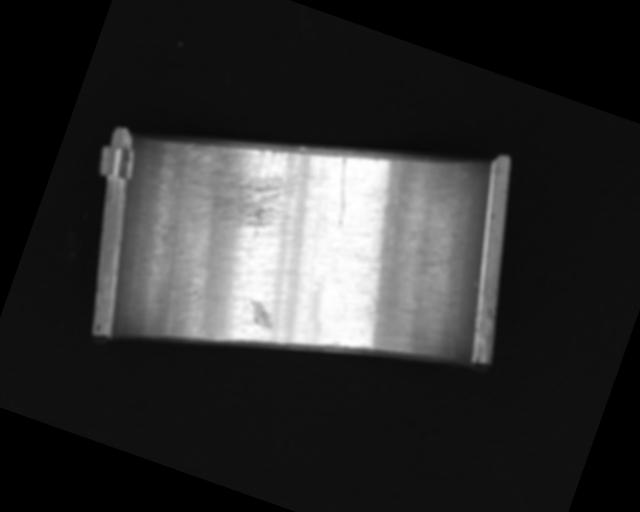bruise: (243, 300, 278, 330)
nick: (405, 252, 484, 360), (321, 156, 365, 227)
scratch: (164, 111, 316, 249)
